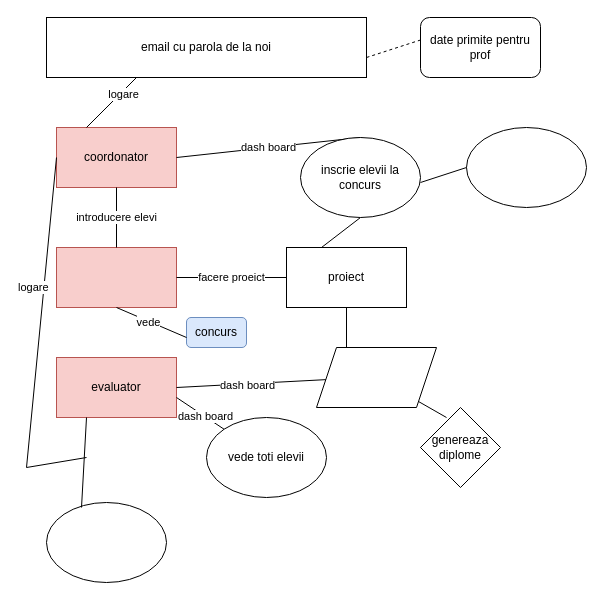
The diagram is 605 pixels wide and 600 high, and some of its shapes have lost their labels. Each missing label, with the box of its shape:
daca gresire parola de 3 ori timeout: (46, 502, 166, 582)
elevi: (56, 246, 176, 308)
evaleaza proiecte: (316, 346, 436, 408)
vede elevii lui: (466, 126, 586, 208)
